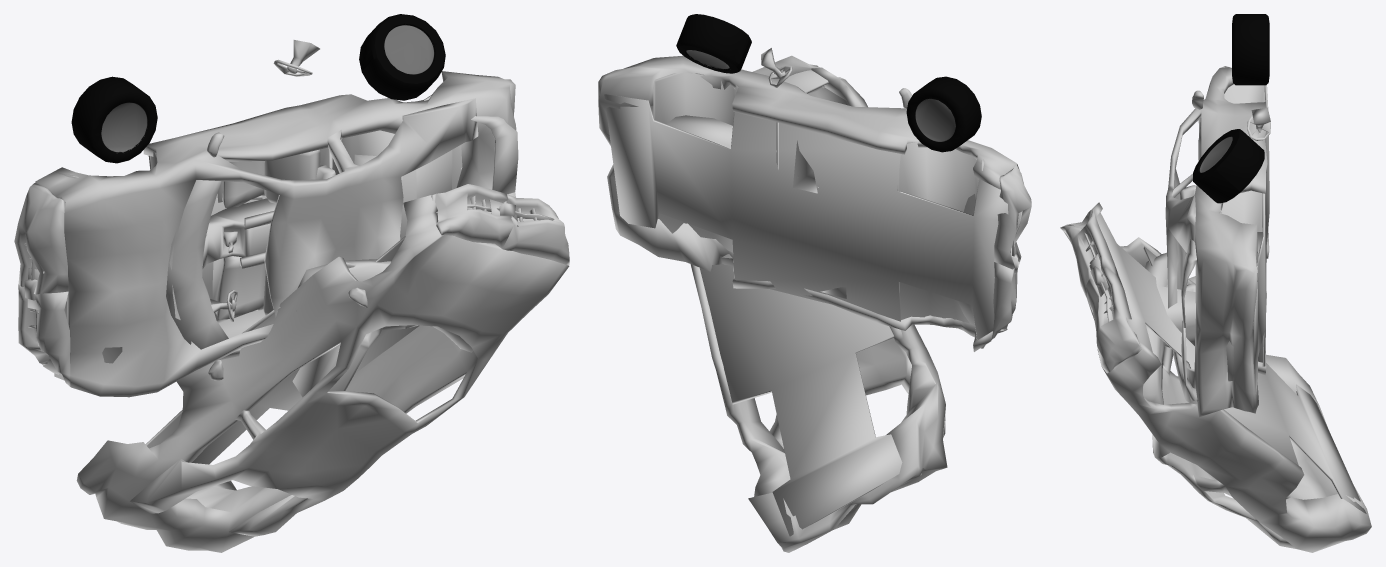
The model's file is car.fbx.
The picture shows the model from 3 angles, left to right: view 1: azimuth 30°, elevation 25°; view 2: azimuth 150°, elevation 25°; view 3: azimuth 270°, elevation 25°; orthographic projection. The views are drawn at different scales.
Parts seen in each view (by area): view 1: Box01_21_-_Default, Box54_21_-_Default, Cylinder08_21_-_Defau, Cylinder07_21_-_Defau, Box51_21_-_Default, Tube02_21_-_Default; view 2: Box01_21_-_Default, Box54_21_-_Default, Cylinder07_21_-_Defau, Cylinder08_21_-_Defau, Tube02_21_-_Default; view 3: Box54_21_-_Default, Box01_21_-_Default, Cylinder08_21_-_Defau, Cylinder07_21_-_Defau, Box51_21_-_Default, Tube02_21_-_Default.
Part boxes in pixels (box(x1,y1,x2,y2)): Box01_21_-_Default: box(14, 71, 518, 397); Box54_21_-_Default: box(76, 184, 569, 552); Cylinder08_21_-_Defau: box(359, 14, 445, 100); Cylinder07_21_-_Defau: box(71, 76, 157, 163); Box51_21_-_Default: box(292, 259, 473, 397); Tube02_21_-_Default: box(273, 40, 319, 76); Box01_21_-_Default: box(598, 55, 1031, 351); Box54_21_-_Default: box(690, 55, 947, 552); Cylinder07_21_-_Defau: box(906, 76, 981, 152); Cylinder08_21_-_Defau: box(676, 14, 751, 73); Tube02_21_-_Default: box(761, 48, 792, 87); Box54_21_-_Default: box(1060, 202, 1371, 552); Box01_21_-_Default: box(1165, 66, 1269, 417); Cylinder08_21_-_Defau: box(1193, 129, 1264, 203); Cylinder07_21_-_Defau: box(1232, 14, 1269, 85); Box51_21_-_Default: box(1143, 252, 1195, 404); Tube02_21_-_Default: box(1247, 107, 1270, 141).
Size of the model in its own units: 204 by 213 by 126.
1 material, 1 textured.
